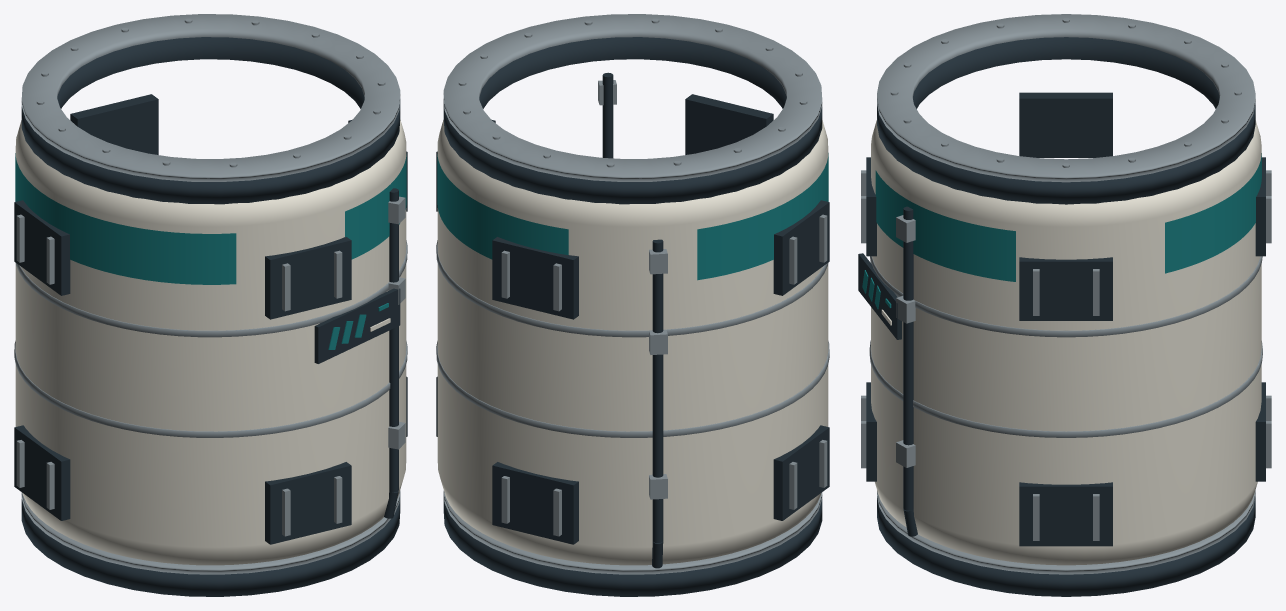
Rendered from b_12_sota.glb.
3 renders of one model, left to right at view 1: azimuth 30°, elevation 25°; view 2: azimuth 150°, elevation 25°; view 3: azimuth 270°, elevation 25°, orthographic.
Parts seen in each view (by area): view 1: b_12_sota.pressure_shell.mesh_JUGRE_·_bone_ceramic, b_12_sota.mesh_JUGRE_·_bead-blasted_titanium, b_12_sota.mesh_JUGRE_·_graphite_composite, b_12_sota.pressure_shell.mesh_JUGRE_·_signal_teal, b_12_sota.pressure_shell.mesh_JUGRE_·_bead-blasted_titanium, b_12_sota.rail_1_01.mesh_JUGRE_·_graphite_composite, b_12_sota.rail_2_01.mesh_JUGRE_·_graphite_composite, b_12_sota.rail_2_03.mesh_JUGRE_·_graphite_composite, b_12_sota.rail_1_04.mesh_JUGRE_·_graphite_composite, b_12_sota.rail_2_04.mesh_JUGRE_·_graphite_composite, b_12_sota.mark_0_32.mesh_JUGRE_·_graphite_composite, b_12_sota.feedline_a.mesh_JUGRE_·_graphite_composite (+6 smaller); view 2: b_12_sota.pressure_shell.mesh_JUGRE_·_bone_ceramic, b_12_sota.mesh_JUGRE_·_bead-blasted_titanium, b_12_sota.mesh_JUGRE_·_graphite_composite, b_12_sota.pressure_shell.mesh_JUGRE_·_signal_teal, b_12_sota.pressure_shell.mesh_JUGRE_·_bead-blasted_titanium, b_12_sota.rail_1_03.mesh_JUGRE_·_graphite_composite, b_12_sota.rail_2_03.mesh_JUGRE_·_graphite_composite, b_12_sota.rail_2_01.mesh_JUGRE_·_graphite_composite, b_12_sota.feedline_b.mesh_JUGRE_·_graphite_composite, b_12_sota.rail_1_04.mesh_JUGRE_·_graphite_composite, b_12_sota.rail_2_04.mesh_JUGRE_·_graphite_composite, b_12_sota.feedline_b.mesh_JUGRE_·_bead-blasted_titanium (+5 smaller); view 3: b_12_sota.pressure_shell.mesh_JUGRE_·_bone_ceramic, b_12_sota.mesh_JUGRE_·_bead-blasted_titanium, b_12_sota.mesh_JUGRE_·_graphite_composite, b_12_sota.pressure_shell.mesh_JUGRE_·_signal_teal, b_12_sota.rail_2_04.mesh_JUGRE_·_graphite_composite, b_12_sota.pressure_shell.mesh_JUGRE_·_bead-blasted_titanium, b_12_sota.rail_1_02.mesh_JUGRE_·_graphite_composite, b_12_sota.rail_2_02.mesh_JUGRE_·_graphite_composite, b_12_sota.feedline_a.mesh_JUGRE_·_graphite_composite, b_12_sota.mark_0_32.mesh_JUGRE_·_graphite_composite, b_12_sota.feedline_a.mesh_JUGRE_·_bead-blasted_titanium, b_12_sota.rail_1_01.mesh_JUGRE_·_graphite_composite (+5 smaller).
Part boxes in pixels (x1,y1,x2,y2): b_12_sota.pressure_shell.mesh_JUGRE_·_bone_ceramic: [15, 120, 406, 565]; b_12_sota.mesh_JUGRE_·_bead-blasted_titanium: [21, 14, 400, 574]; b_12_sota.mesh_JUGRE_·_graphite_composite: [21, 37, 400, 596]; b_12_sota.pressure_shell.mesh_JUGRE_·_signal_teal: [15, 153, 406, 284]; b_12_sota.pressure_shell.mesh_JUGRE_·_bead-blasted_titanium: [14, 240, 407, 437]; b_12_sota.rail_1_01.mesh_JUGRE_·_graphite_composite: [265, 462, 351, 544]; b_12_sota.rail_2_01.mesh_JUGRE_·_graphite_composite: [265, 237, 351, 319]; b_12_sota.rail_2_03.mesh_JUGRE_·_graphite_composite: [70, 94, 158, 154]; b_12_sota.rail_1_04.mesh_JUGRE_·_graphite_composite: [14, 425, 70, 520]; b_12_sota.rail_2_04.mesh_JUGRE_·_graphite_composite: [14, 200, 70, 295]; b_12_sota.mark_0_32.mesh_JUGRE_·_graphite_composite: [314, 288, 400, 363]; b_12_sota.feedline_a.mesh_JUGRE_·_graphite_composite: [384, 188, 398, 518]; b_12_sota.pressure_shell.mesh_JUGRE_·_bone_ceramic: [437, 120, 828, 565]; b_12_sota.mesh_JUGRE_·_bead-blasted_titanium: [443, 14, 822, 574]; b_12_sota.mesh_JUGRE_·_graphite_composite: [443, 37, 822, 596]; b_12_sota.pressure_shell.mesh_JUGRE_·_signal_teal: [437, 153, 828, 280]; b_12_sota.pressure_shell.mesh_JUGRE_·_bead-blasted_titanium: [436, 240, 829, 437]; b_12_sota.rail_1_03.mesh_JUGRE_·_graphite_composite: [492, 462, 578, 544]; b_12_sota.rail_2_03.mesh_JUGRE_·_graphite_composite: [492, 237, 578, 319]; b_12_sota.rail_2_01.mesh_JUGRE_·_graphite_composite: [685, 94, 773, 154]; b_12_sota.feedline_b.mesh_JUGRE_·_graphite_composite: [652, 239, 663, 568]; b_12_sota.rail_1_04.mesh_JUGRE_·_graphite_composite: [773, 425, 829, 520]; b_12_sota.rail_2_04.mesh_JUGRE_·_graphite_composite: [773, 200, 829, 295]; b_12_sota.feedline_b.mesh_JUGRE_·_bead-blasted_titanium: [649, 249, 667, 499]; b_12_sota.pressure_shell.mesh_JUGRE_·_bone_ceramic: [871, 120, 1261, 565]; b_12_sota.mesh_JUGRE_·_bead-blasted_titanium: [877, 14, 1255, 574]; b_12_sota.mesh_JUGRE_·_graphite_composite: [877, 37, 1255, 596]; b_12_sota.pressure_shell.mesh_JUGRE_·_signal_teal: [875, 153, 1261, 281]; b_12_sota.rail_2_04.mesh_JUGRE_·_graphite_composite: [1019, 92, 1112, 157]; b_12_sota.pressure_shell.mesh_JUGRE_·_bead-blasted_titanium: [869, 256, 1262, 437]; b_12_sota.rail_1_02.mesh_JUGRE_·_graphite_composite: [1019, 482, 1112, 546]; b_12_sota.rail_2_02.mesh_JUGRE_·_graphite_composite: [1019, 257, 1112, 320]; b_12_sota.feedline_a.mesh_JUGRE_·_graphite_composite: [903, 206, 917, 536]; b_12_sota.mark_0_32.mesh_JUGRE_·_graphite_composite: [858, 253, 901, 339]; b_12_sota.feedline_a.mesh_JUGRE_·_bead-blasted_titanium: [896, 215, 915, 467]; b_12_sota.rail_1_01.mesh_JUGRE_·_graphite_composite: [866, 382, 876, 481].
Size of the model in its own units: 1.31 by 1.5 by 1.32.
